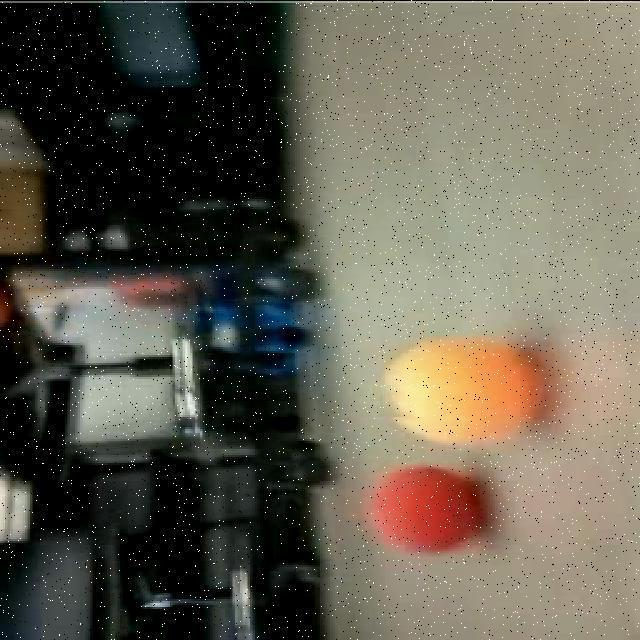ping-pong-ball: (376, 336, 540, 449), (366, 461, 490, 556)
